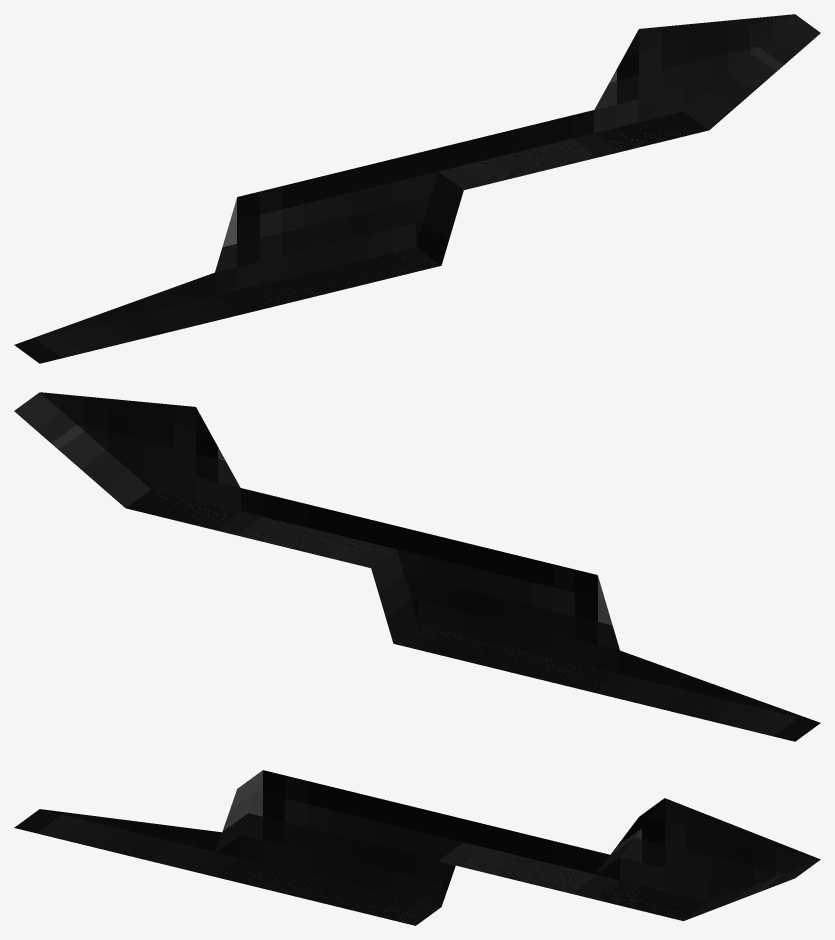
File: npcs_09.glb
3 views of the same model, one above another, from view 1: azimuth 30°, elevation 25°; view 2: azimuth 150°, elevation 25°; view 3: azimuth 330°, elevation 25° (orthographic).
Visible parts, largest first — view 1: world; view 2: world; view 3: world.
Boxes of the visible parts, box(x1,y1,x2,y2) form: world: box(14, 14, 820, 363); world: box(14, 392, 820, 741); world: box(14, 770, 820, 925).
Bounding box in the file's own units: 0.35 × 0.07 × 0.02.
Materials: 1 (1 with a texture image).
